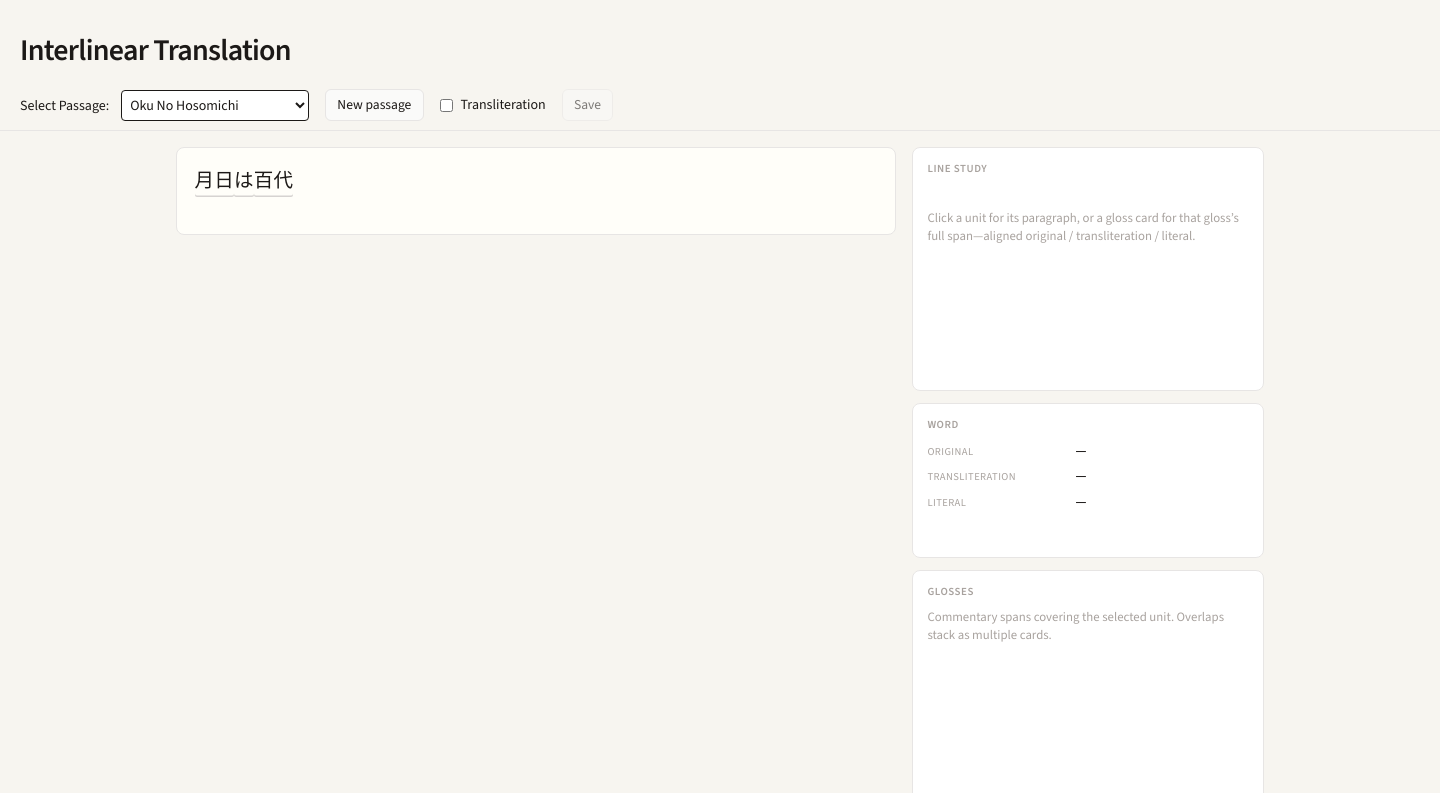
Scenario: App component › highlights a gloss span when a gloss card is clicked
Click the button "百代". click: (273, 181)
box: [254, 164, 293, 197]
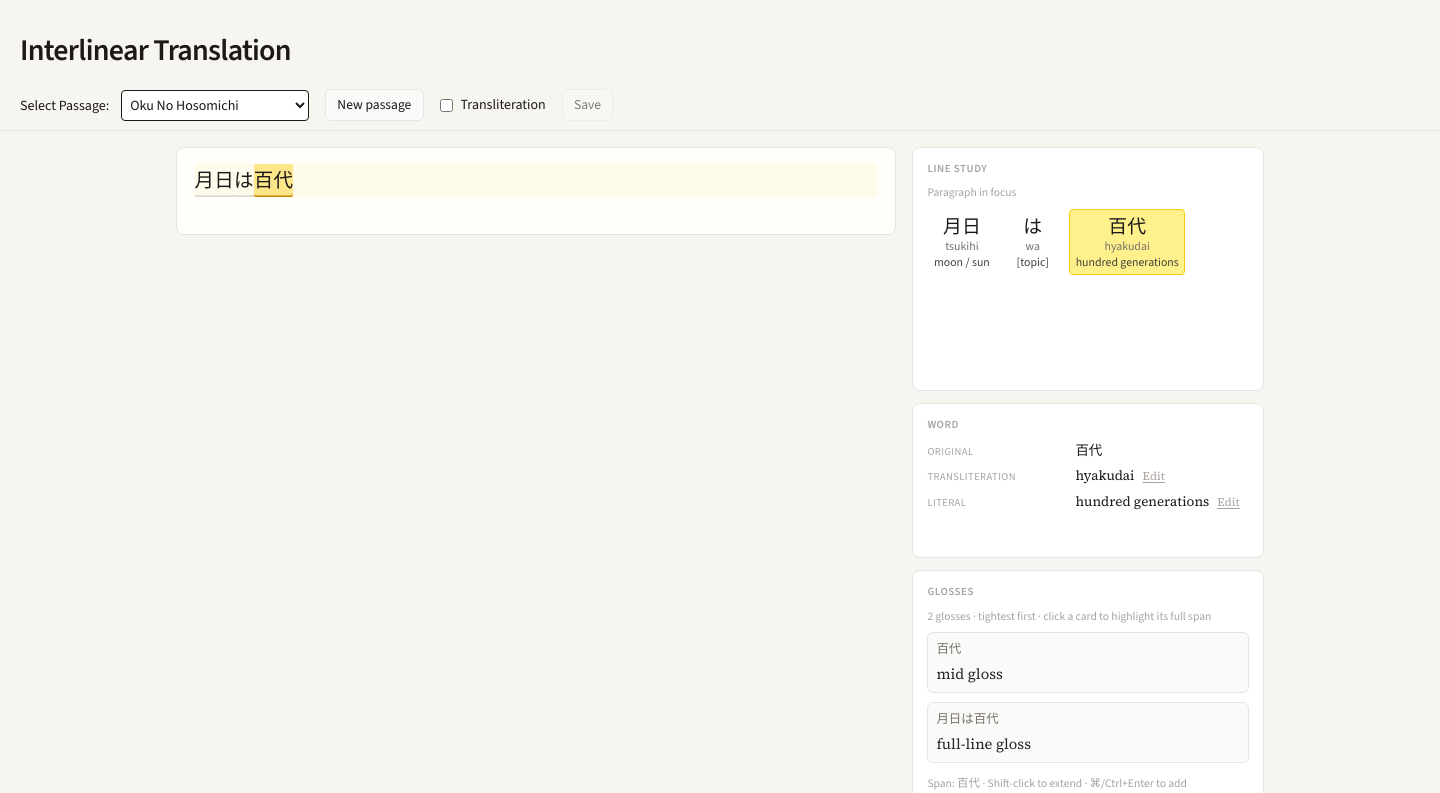
Click the text "mid gloss". click: (970, 674)
box: [936, 664, 1003, 684]
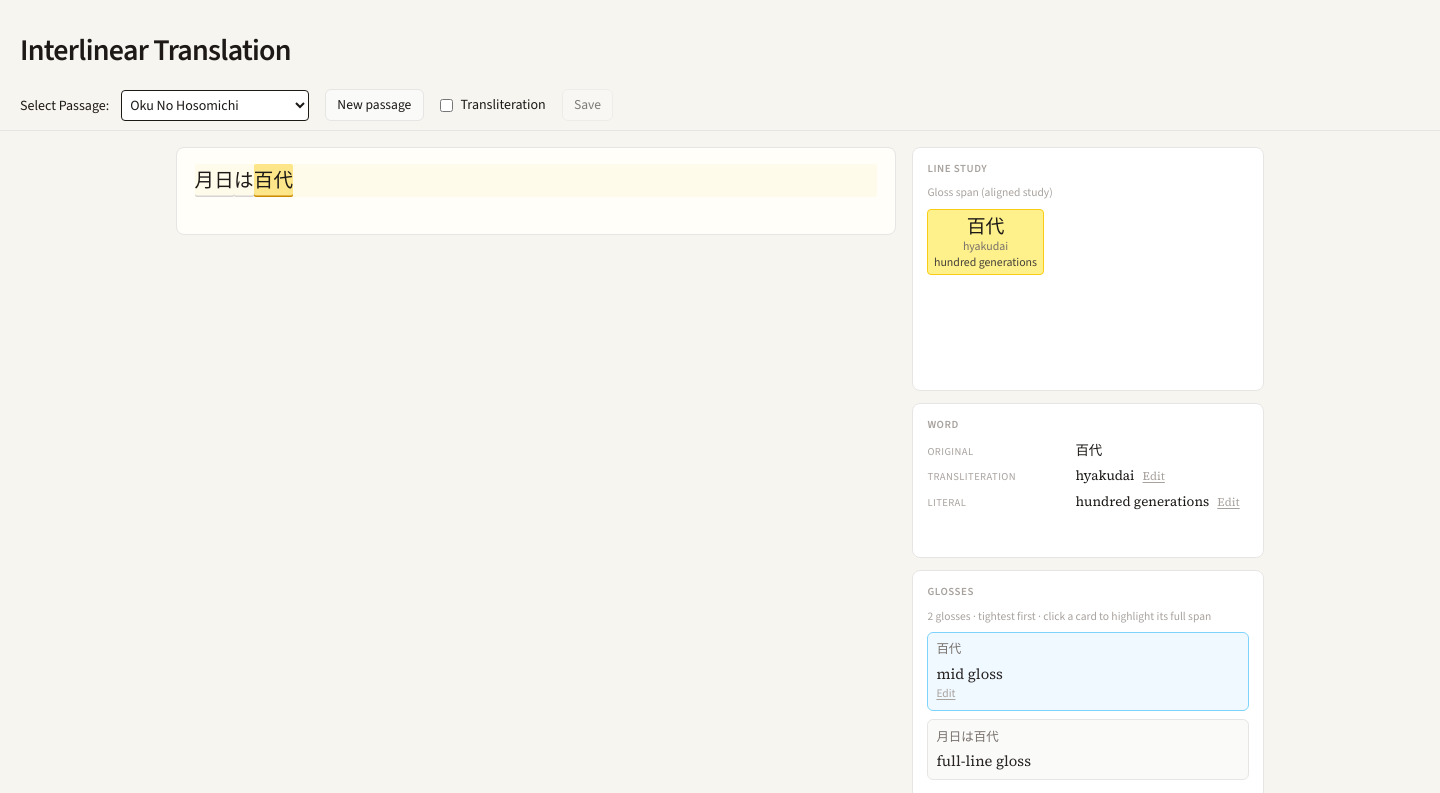
Check: the button with class "field-edit-btn" below "mid gloss" is shown, box [936, 685, 956, 702]
Check: the text "Gloss span (aligned study)" is shown, box [927, 184, 1053, 200]
